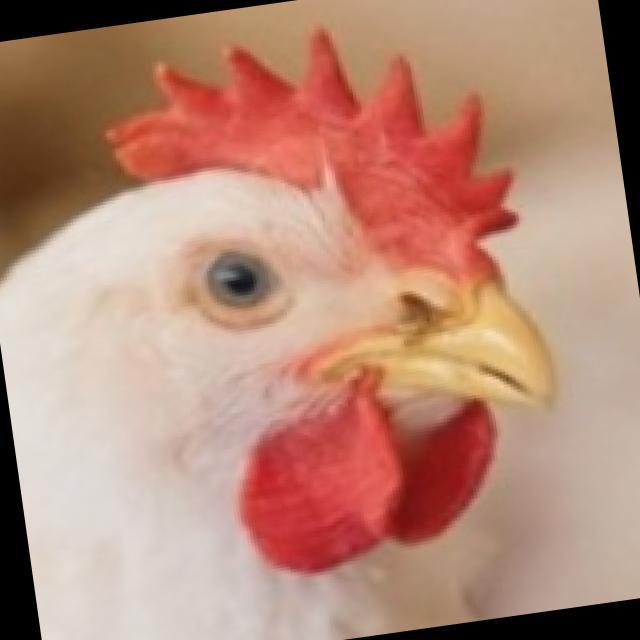Healthy: (0, 0, 588, 640)
